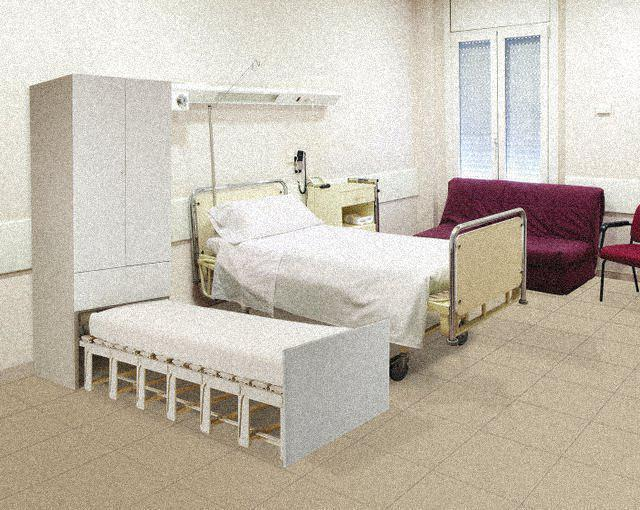Armario: (65, 88, 172, 304)
